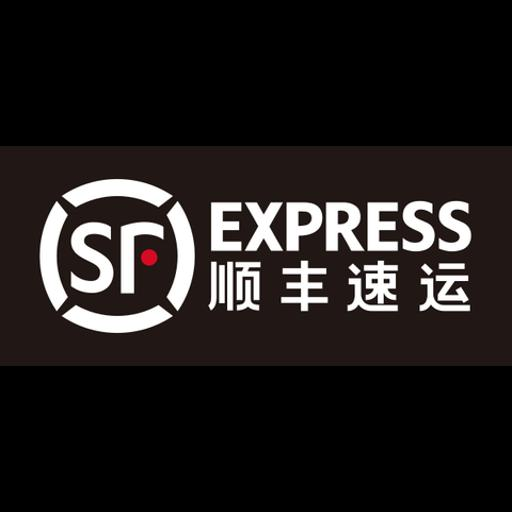SF Express Co: (0, 146, 512, 366)
